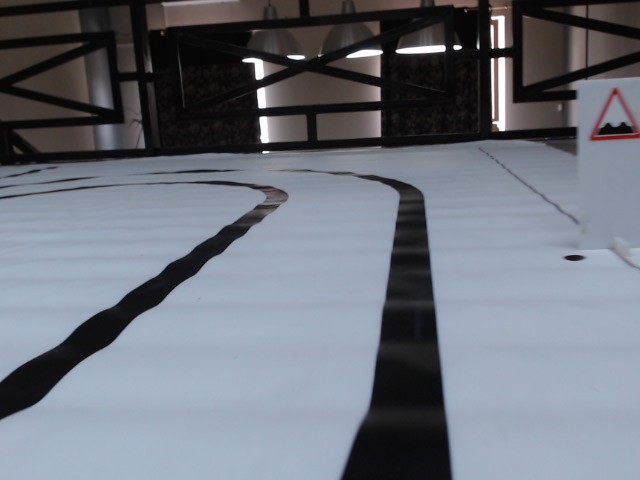Nerov: (587, 87, 640, 144)
